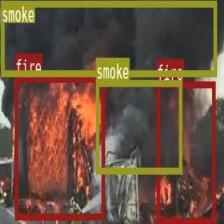fire: (14, 74, 104, 219), (156, 81, 214, 222)
smoke: (0, 0, 216, 75), (95, 80, 182, 172)
